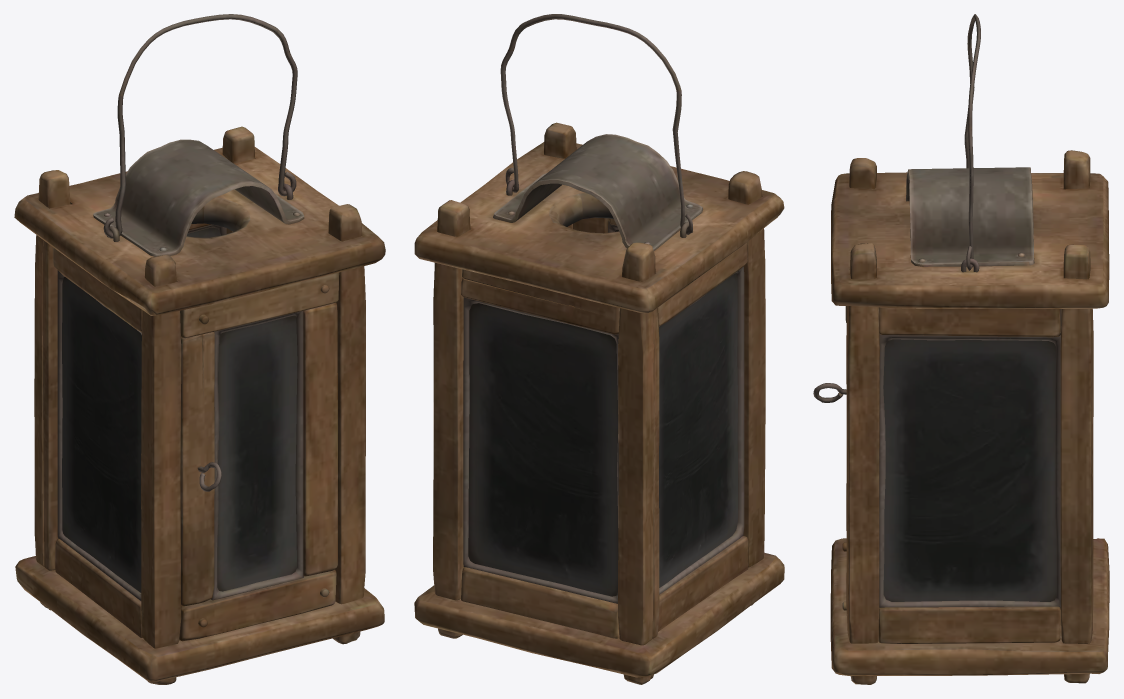
The model's file is wooden_lantern_01.glb.
3 views of the same model, side by side, from view 1: azimuth 30°, elevation 25°; view 2: azimuth 150°, elevation 25°; view 3: azimuth 270°, elevation 25° (orthographic).
Parts seen in each view (by area): view 1: wooden_lantern_01, wooden_lantern_01_door, wooden_lantern_01_handle; view 2: wooden_lantern_01, wooden_lantern_01_handle, wooden_lantern_01_door; view 3: wooden_lantern_01, wooden_lantern_01_handle, wooden_lantern_01_door.
Boxes of the visible parts, x1,y1,x2,y2 form: wooden_lantern_01: [14, 126, 385, 684]; wooden_lantern_01_door: [179, 272, 339, 641]; wooden_lantern_01_handle: [103, 14, 297, 238]; wooden_lantern_01: [414, 122, 784, 684]; wooden_lantern_01_handle: [500, 14, 692, 234]; wooden_lantern_01_door: [573, 217, 618, 233]; wooden_lantern_01: [830, 150, 1109, 684]; wooden_lantern_01_handle: [964, 14, 980, 270]; wooden_lantern_01_door: [813, 306, 847, 610].
Bounding box in the file's own units: 0.2211 × 0.5301 × 0.2347.
Materials: 2 (2 with a texture image).
